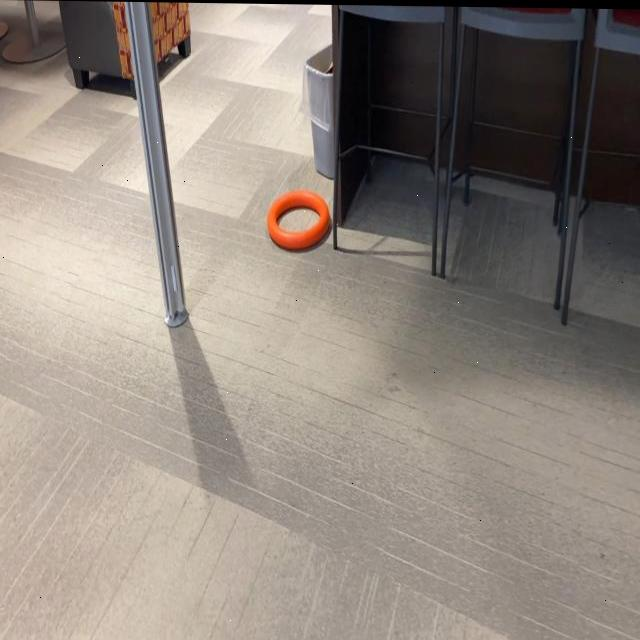note: (265, 186, 333, 252)
